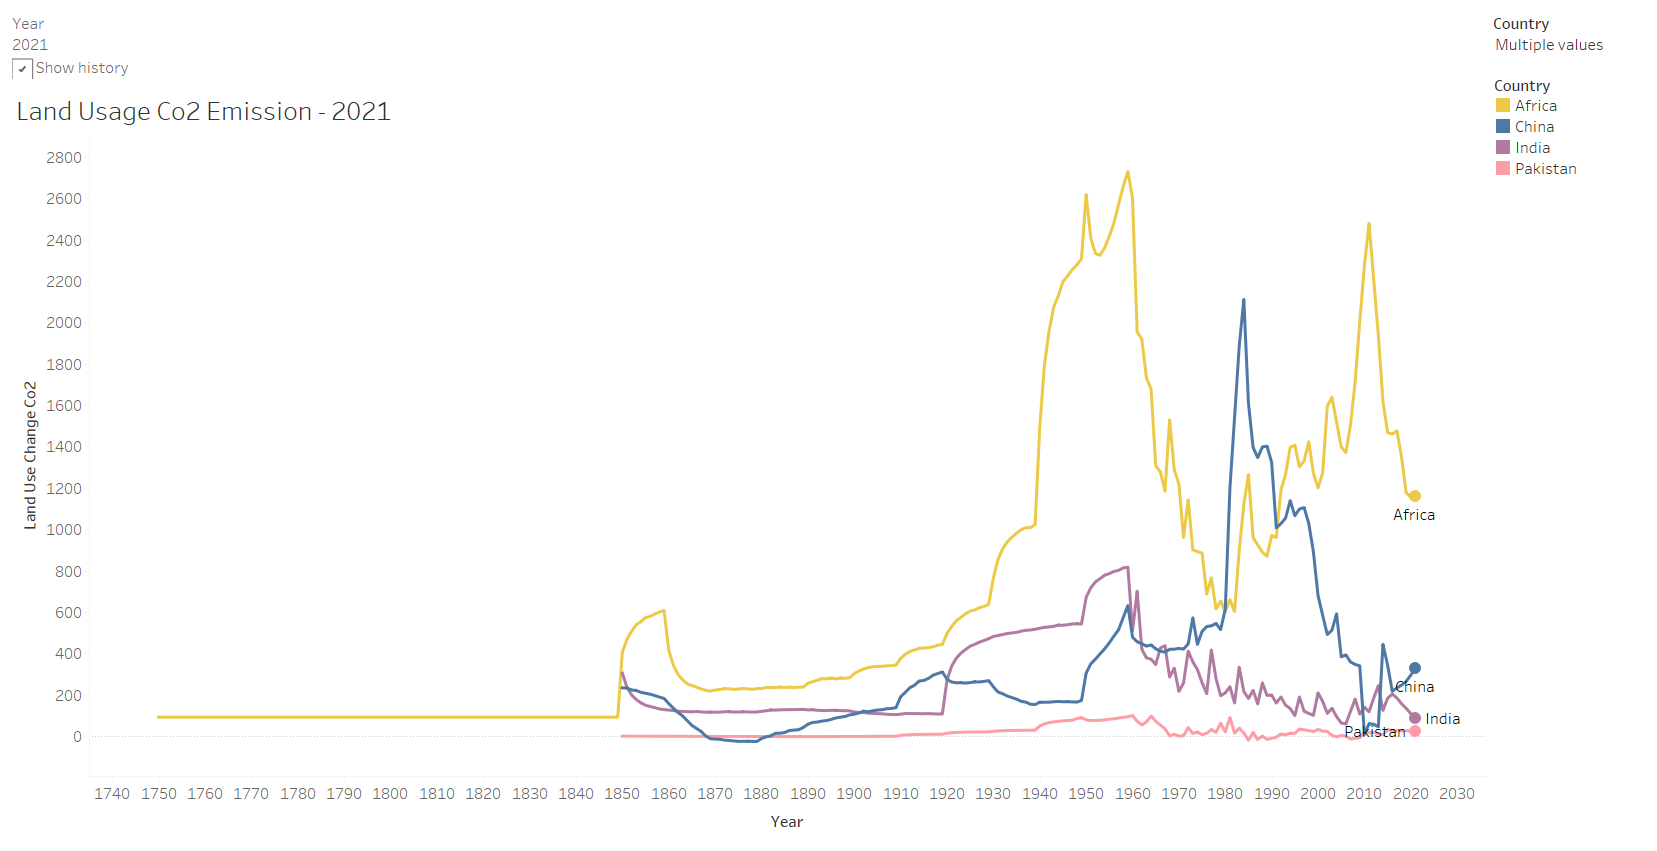

The dashboard page shown, as its layout file describes it:
{"tool":"tableau","page":{"name":"Land usgae co2","canvas":[1000,1000],"units":"permille","ordinal":2},"visuals":[{"type":"currpage","title":"Land Usage Co2 Emission","box":[4.8,9.4,893.8,88.1]},{"type":"filter","title":"Land Usage Co2 Emission","param":"[federated.11hnmx00splwlf16n3ti71uejiao].[none:country:nk]","box":[898.6,9.4,96.6,71.7]},{"type":"legend","title":"Land Usage Co2 Emission","param":"[federated.11hnmx00splwlf16n3ti71uejiao].[none:country:nk]","box":[898.6,81.1,96.6,134]},{"type":"worksheet","title":"Land Usage Co2 Emission","mark":"Circle","rows":["land_use_change_co2"],"cols":["year"],"box":[4.8,97.5,893.8,893.1]}]}

Visuals, with their boxes on the dashboard's canvas, which has no fixed pixel size, in thousandths of its width and height (x1, y1, x2, y2). These are canvas units, not pixel positions in the 1657x851 screenshot, which may show the page scaled, cropped or inside an application window:
"Land Usage Co2 Emission" currpage: select_region(5, 9, 899, 98)
"Land Usage Co2 Emission" filter: select_region(899, 9, 995, 81)
"Land Usage Co2 Emission" legend: select_region(899, 81, 995, 215)
"Land Usage Co2 Emission" worksheet (Circle marks): select_region(5, 98, 899, 991)
